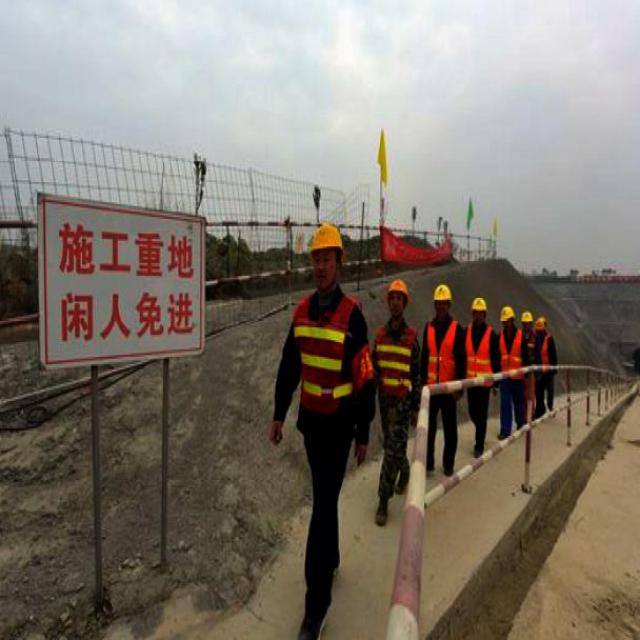helmet: (305, 208, 343, 304), (429, 274, 462, 320), (381, 270, 407, 324), (468, 284, 492, 328), (492, 304, 514, 338), (520, 301, 538, 342), (529, 307, 548, 331)
vest: (287, 302, 354, 398), (365, 312, 411, 412), (451, 320, 492, 388), (427, 323, 453, 386), (501, 335, 524, 379)
